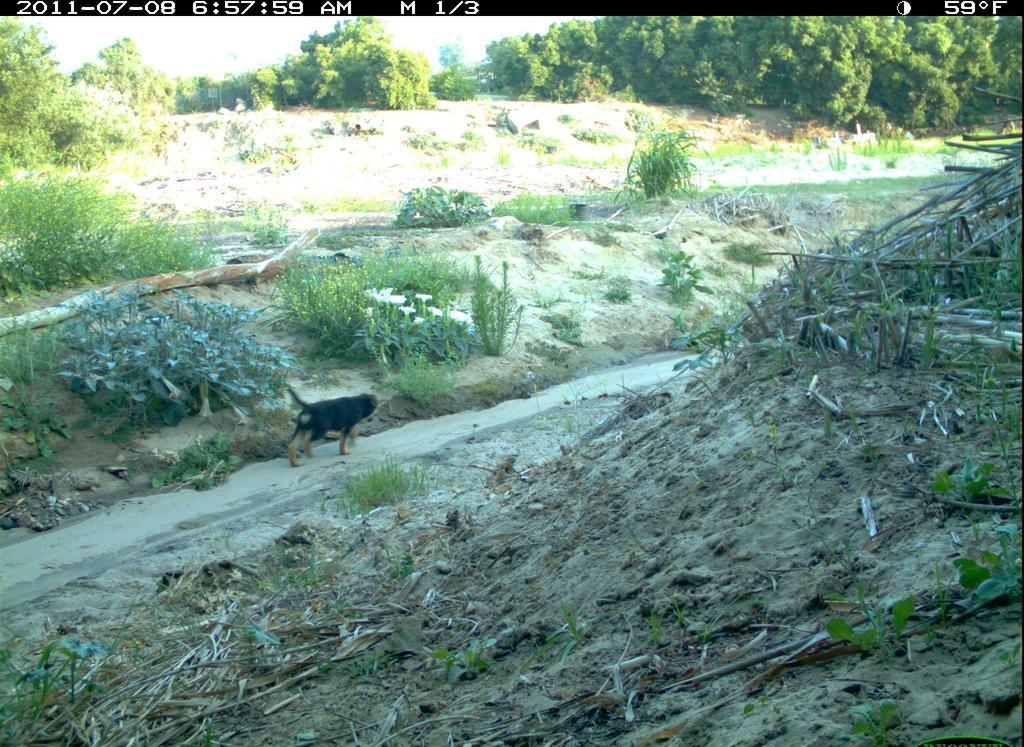dog: (276, 381, 385, 474)
